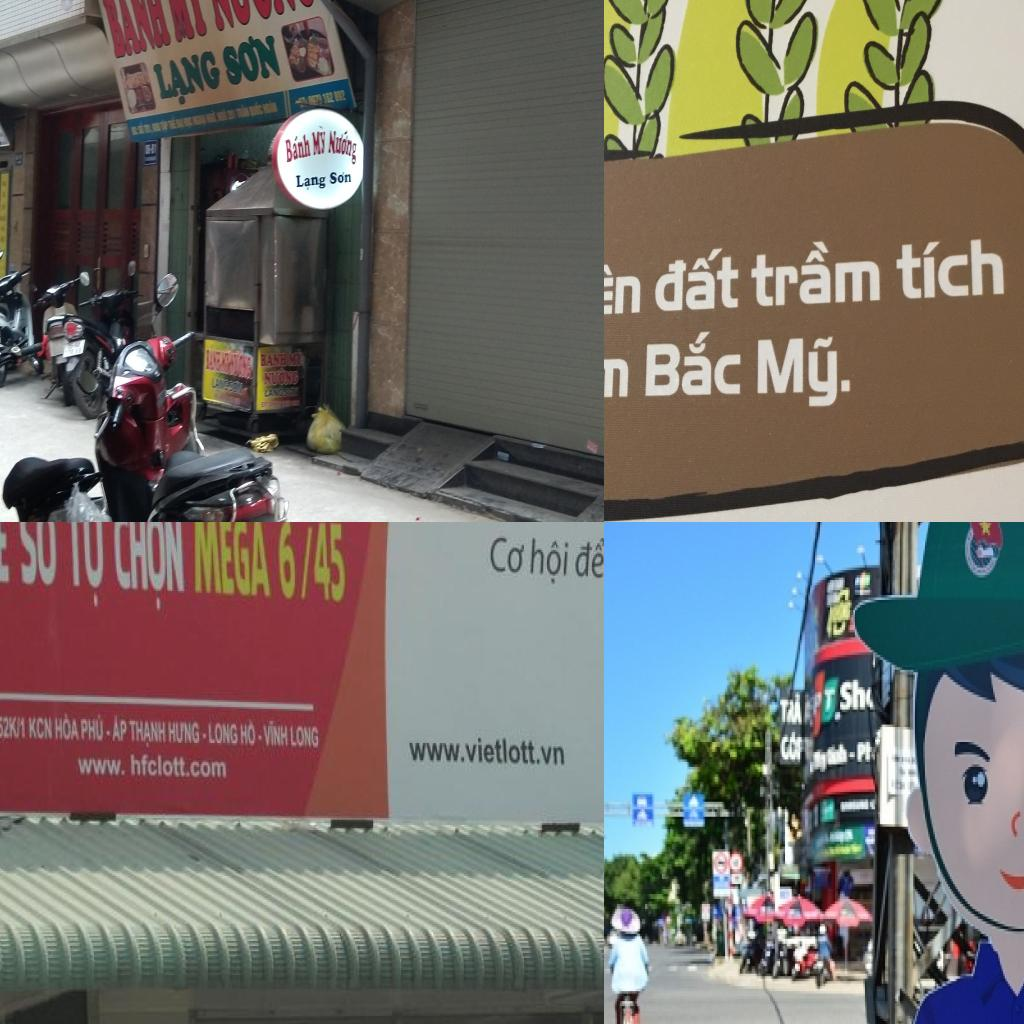text: (750, 236, 884, 310), (896, 234, 1007, 302), (643, 326, 744, 400), (651, 242, 742, 316), (114, 522, 187, 614), (276, 522, 350, 606), (193, 522, 273, 599), (408, 734, 566, 767), (149, 48, 225, 110), (97, 0, 172, 61), (77, 753, 230, 781), (221, 26, 282, 87), (66, 522, 107, 611), (198, 0, 300, 34), (18, 522, 58, 587), (604, 257, 643, 322), (529, 538, 573, 590), (160, 0, 209, 44), (604, 343, 633, 402), (486, 535, 526, 574), (574, 536, 604, 580), (328, 125, 358, 167), (838, 677, 868, 715), (130, 721, 167, 751), (778, 690, 804, 730), (778, 727, 805, 764), (167, 721, 203, 746), (285, 132, 312, 164), (208, 721, 240, 748), (262, 719, 290, 748), (56, 714, 82, 745), (81, 712, 106, 743), (228, 348, 252, 380), (290, 726, 320, 750), (265, 366, 299, 386), (0, 715, 26, 739), (295, 172, 326, 192), (30, 717, 53, 743), (241, 719, 259, 748), (310, 124, 326, 156), (112, 714, 128, 745), (260, 350, 288, 367), (206, 344, 222, 373), (822, 685, 836, 717), (812, 690, 825, 722), (220, 346, 232, 375), (210, 377, 230, 394), (329, 170, 352, 184), (249, 100, 264, 118), (289, 348, 303, 367), (228, 380, 244, 396), (262, 99, 279, 114), (235, 104, 251, 119), (264, 388, 284, 400), (192, 115, 208, 128), (205, 109, 218, 124), (183, 116, 195, 130), (168, 116, 178, 131), (284, 387, 299, 397), (160, 119, 170, 133), (834, 710, 844, 724), (176, 118, 185, 131), (152, 123, 162, 132)
